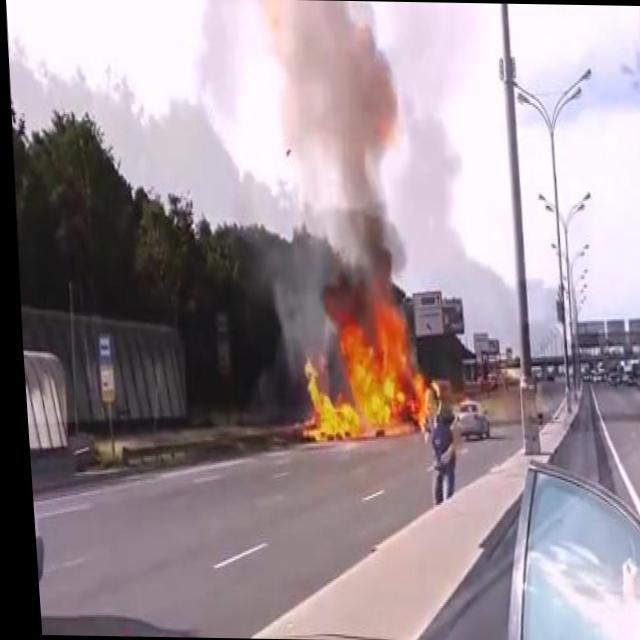fire: (282, 272, 435, 446)
